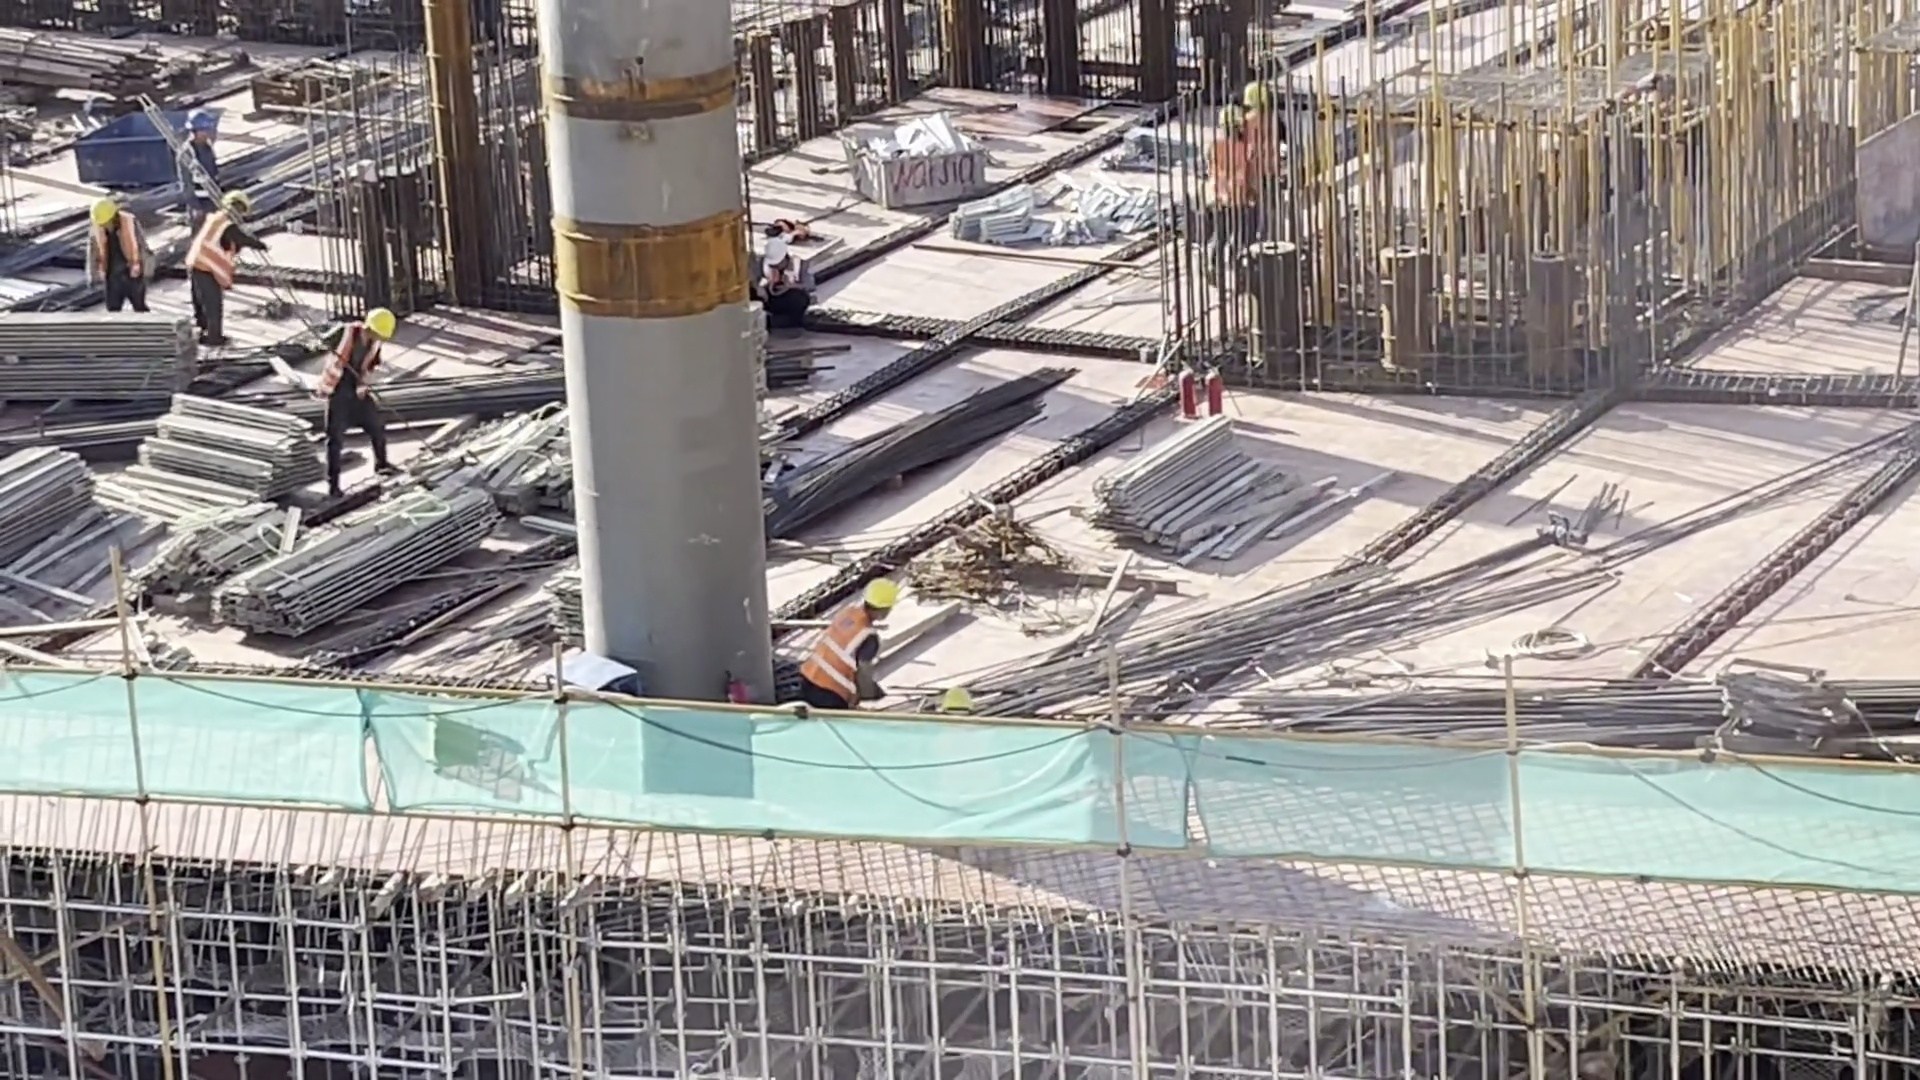helmet: (840, 563, 904, 613), (348, 289, 399, 343), (1212, 79, 1267, 123), (77, 186, 129, 224), (758, 230, 789, 272), (177, 108, 215, 134), (221, 187, 254, 216)
person: (308, 291, 411, 504), (789, 569, 912, 708), (181, 190, 271, 337), (1210, 83, 1278, 282), (54, 202, 163, 311), (174, 91, 228, 227), (748, 224, 812, 309)
vest: (808, 597, 875, 694), (311, 313, 370, 408), (1199, 128, 1260, 202), (170, 134, 232, 200), (82, 228, 154, 274), (193, 213, 237, 285)
